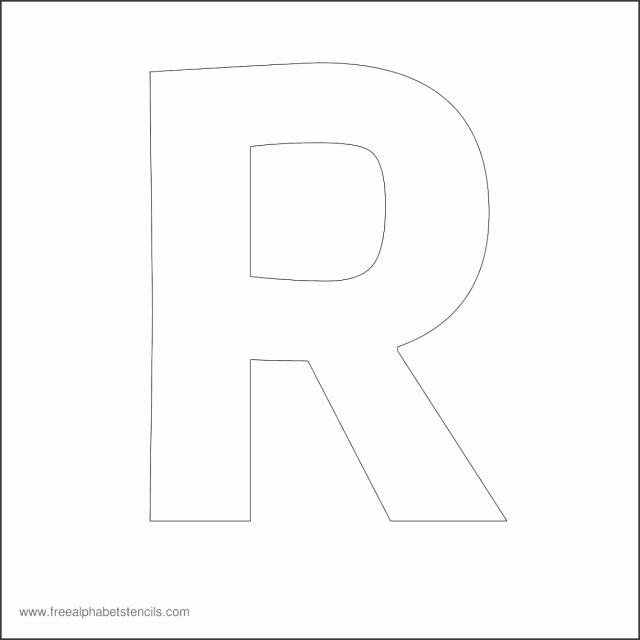R: (103, 29, 578, 551)
